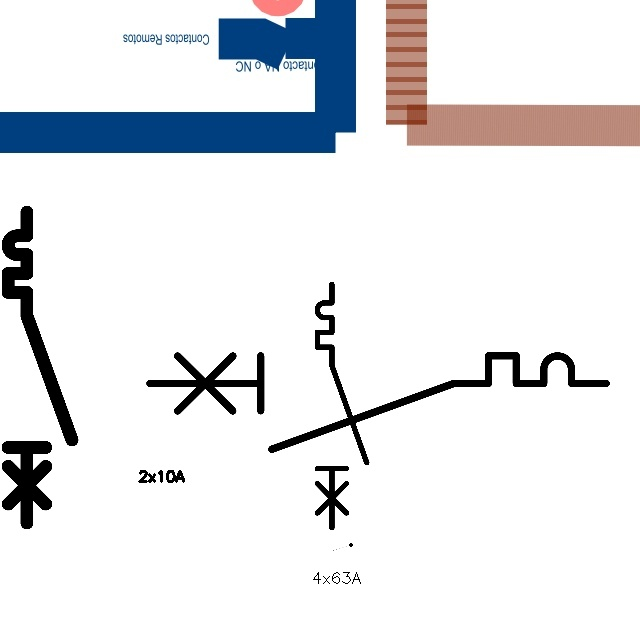interruptor_termomagnetico: (138, 344, 618, 461), (0, 204, 80, 531), (311, 278, 373, 534)
